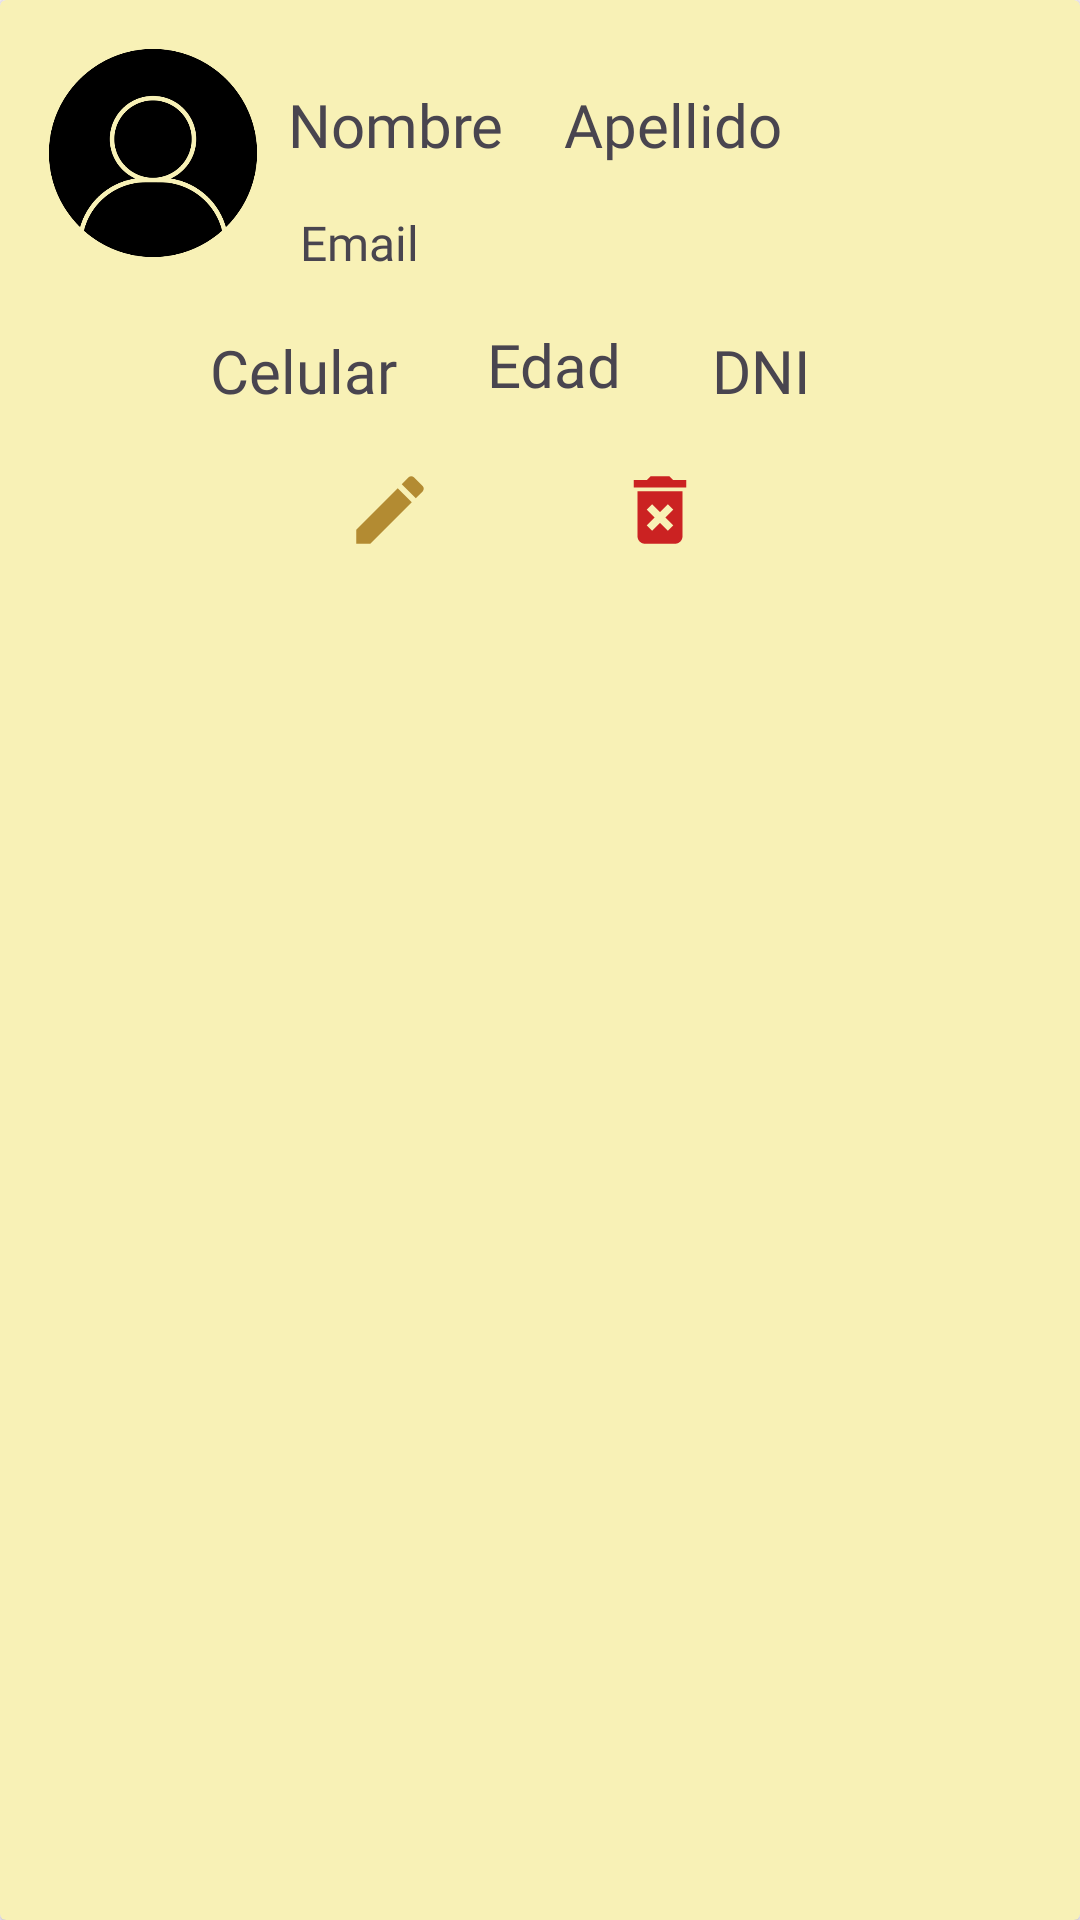

Named icons in this screenshot (1080w x 1920h) and their centers, point (x, y):
delete: point (660, 510)
edit: point (390, 510)
usuario: point (153, 153)
